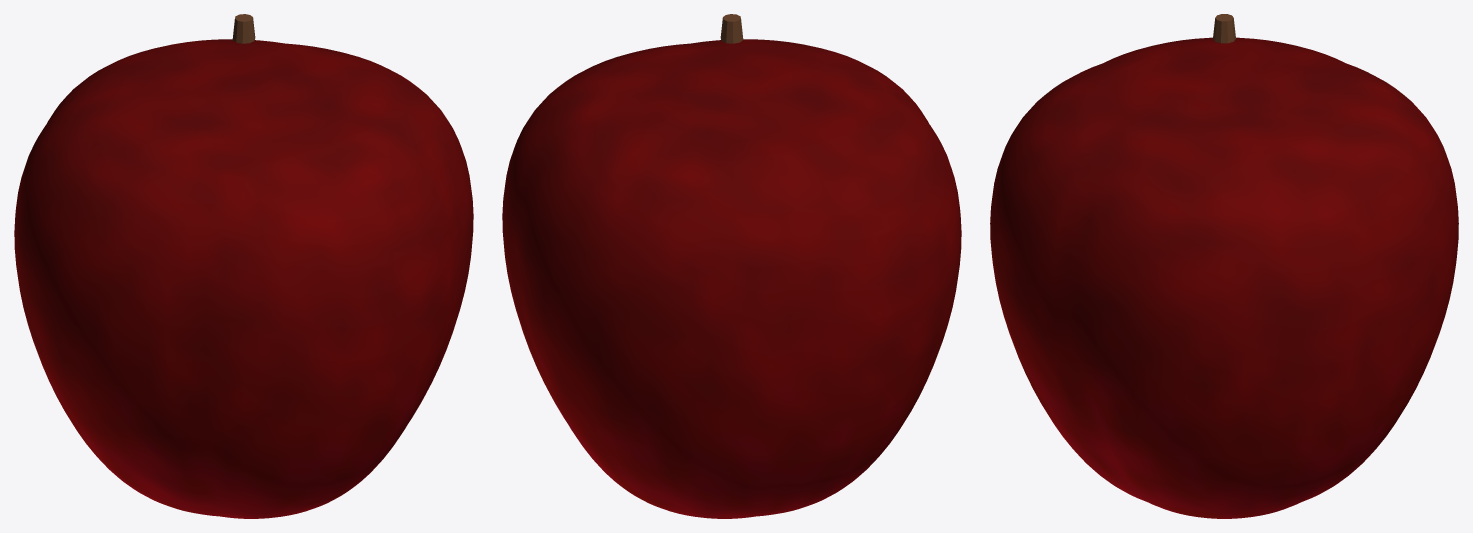
File: jambos-rouge.glb
3 views of the same model, side by side, from view 1: azimuth 30°, elevation 25°; view 2: azimuth 150°, elevation 25°; view 3: azimuth 270°, elevation 25° (orthographic).
Parts seen in each view (by area): view 1: entier_peau, moitie_B_peau, moitie_A_peau, entier_extra0; view 2: entier_peau, moitie_A_peau, moitie_B_peau, entier_extra0; view 3: entier_peau, moitie_A_peau, moitie_B_peau, entier_extra0.
Part boxes in pixels (x1,y1,x2,y2): entier_peau: (14,39,473,518); moitie_B_peau: (41,71,472,518); moitie_A_peau: (15,39,401,463); entier_extra0: (232,14,255,43); entier_peau: (502,39,961,518); moitie_A_peau: (502,71,933,518); moitie_B_peau: (571,39,960,471); entier_extra0: (720,14,743,43); entier_peau: (990,37,1458,518); moitie_A_peau: (1224,39,1458,518); moitie_B_peau: (990,38,1224,518); entier_extra0: (1213,14,1235,43).
Bounding box in the file's own units: 1.62 × 1.79 × 1.62.
